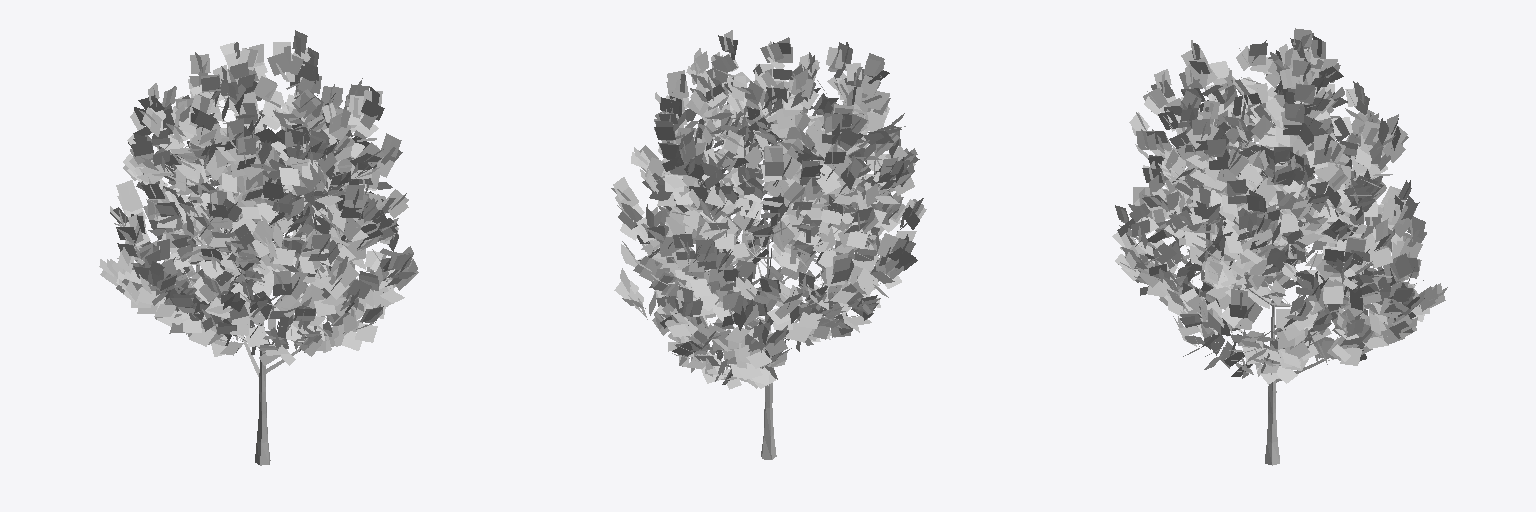
The model's file is tree.obj.
The picture shows the model from 3 angles: view 1: azimuth 30°, elevation 25°; view 2: azimuth 150°, elevation 25°; view 3: azimuth 270°, elevation 25°; orthographic projection.
Parts seen in each view (by area): view 1: trunk; view 2: trunk; view 3: trunk.
Part boxes in pixels (left/top/right/bottom): trunk: left=255, top=257, right=270, bottom=465; trunk: left=761, top=240, right=776, bottom=459; trunk: left=1265, top=281, right=1279, bottom=465.
Size of the model in its own units: 239 by 325 by 242.